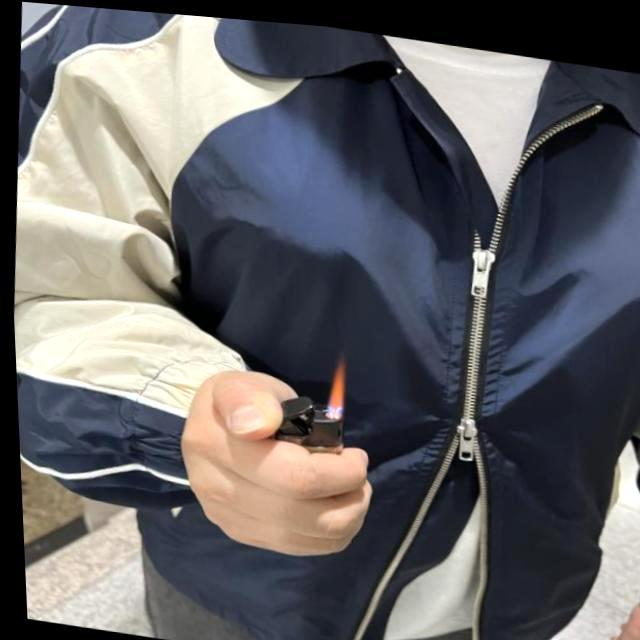fire: (321, 352, 344, 404)
